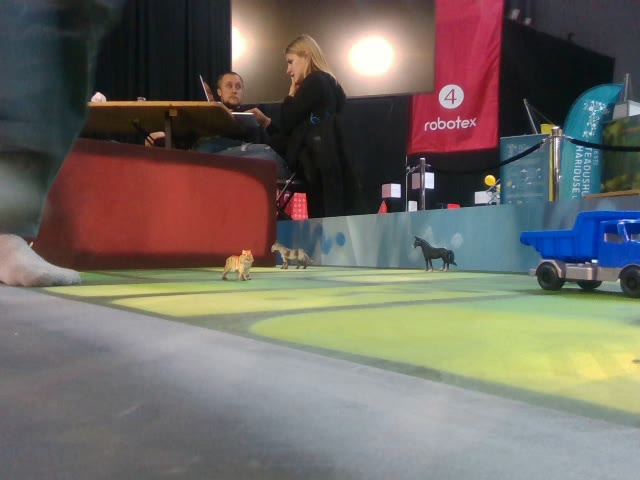toy: (412, 236, 457, 272), (270, 241, 314, 271), (221, 248, 255, 282)
